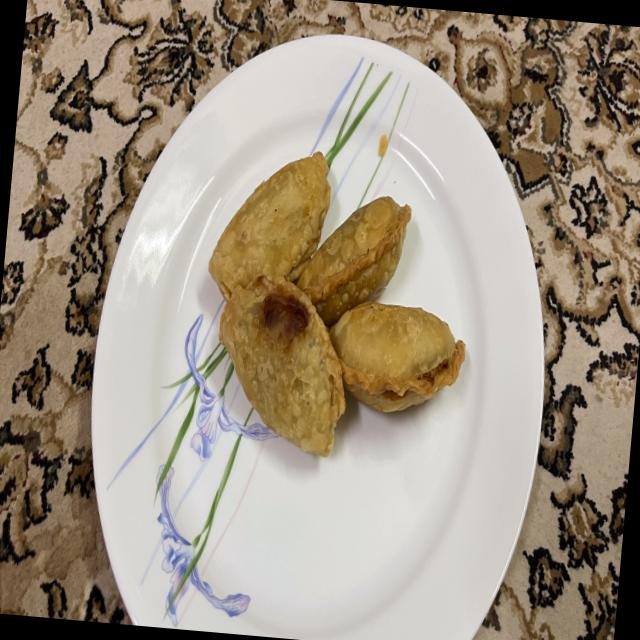karipap: (218, 275, 345, 457), (208, 150, 330, 301), (329, 302, 465, 411), (297, 196, 411, 325)
